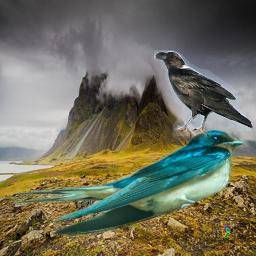Crow: (154, 50, 253, 140)
Swallow: (6, 129, 245, 237)
